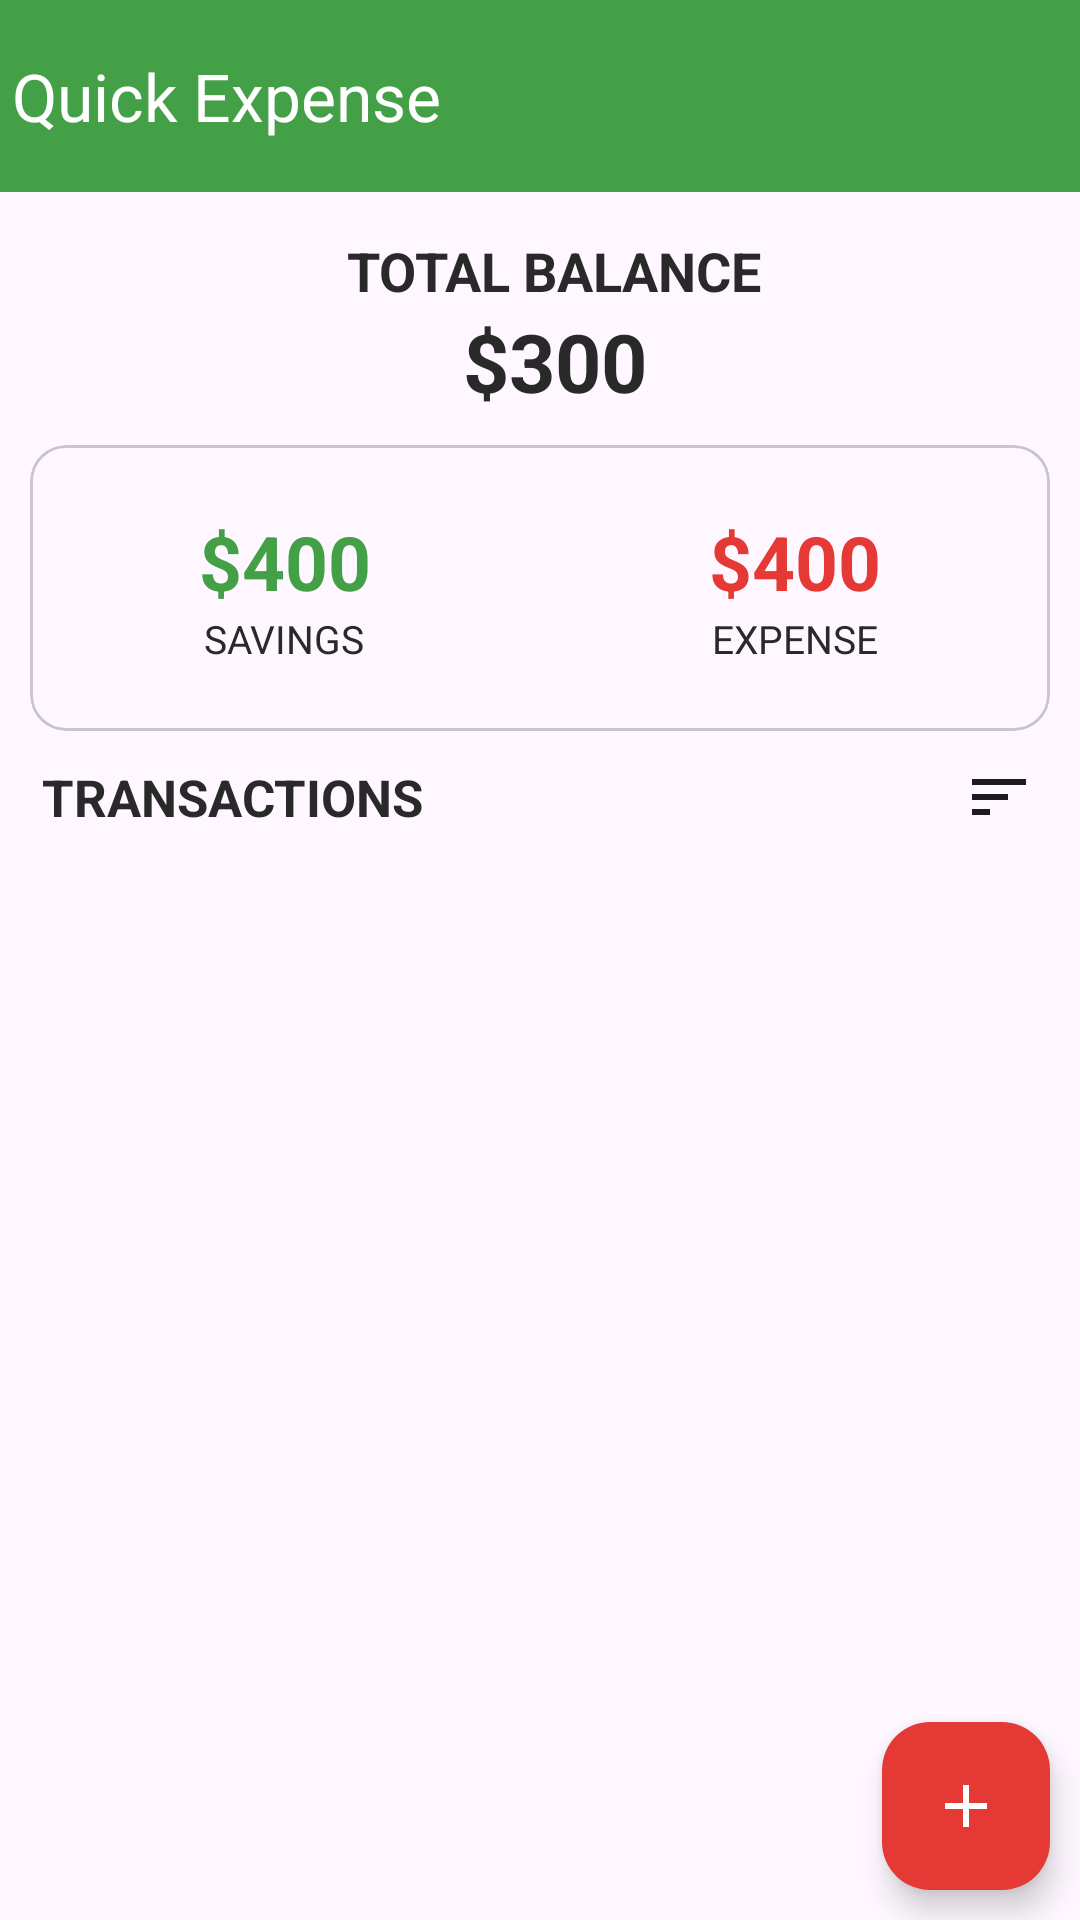

Screen size 1080w x 1920h. Icon name, then its box in pixels as (left=x1, top=y1, right=x2, bottom=y2):
add: (left=882, top=1722, right=1050, bottom=1890)
sort: (left=972, top=779, right=1026, bottom=815)
